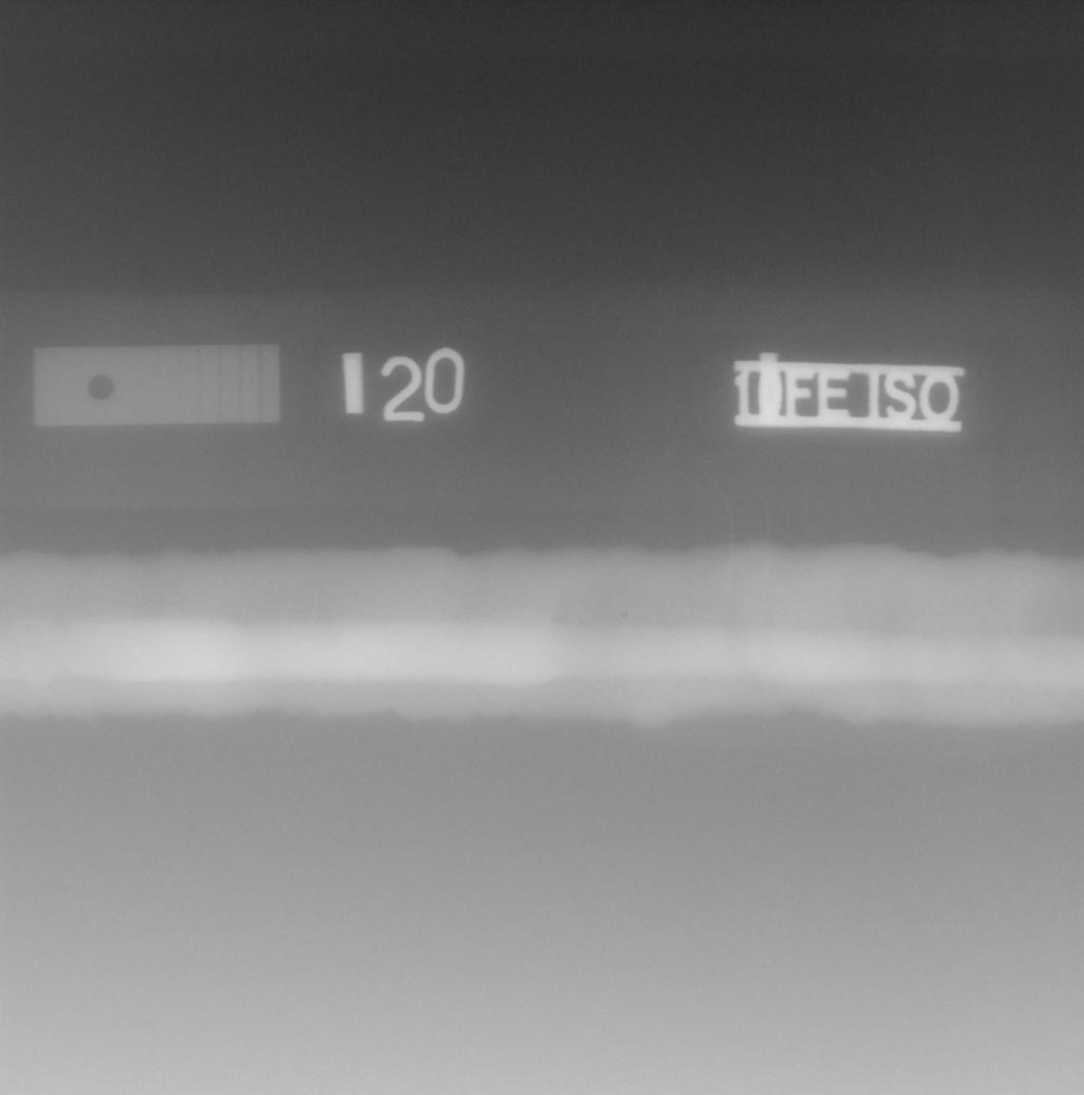Pore/Porosity: (621, 612, 628, 618), (554, 616, 560, 623)
Reference Standard 1: (34, 344, 280, 426)
